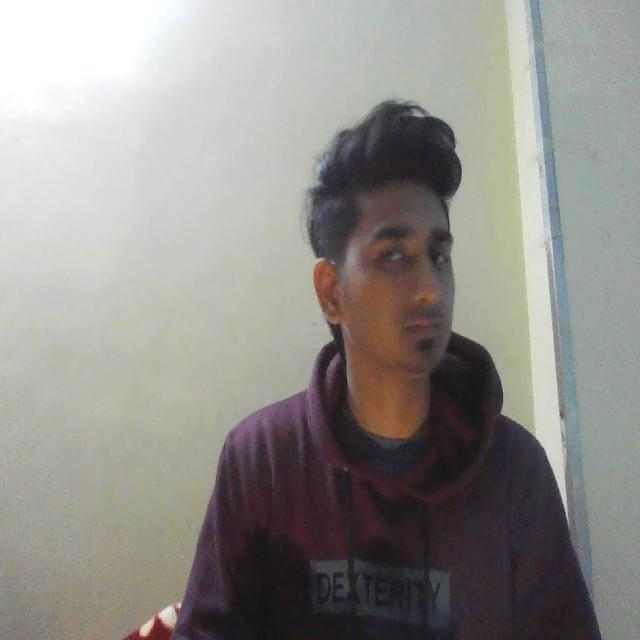real: (328, 133, 463, 390)
